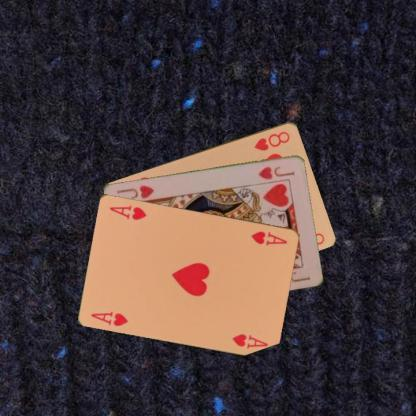8h: (251, 128, 292, 152)
Ah: (89, 308, 130, 327), (249, 228, 288, 247)
Jh: (255, 163, 296, 181)
